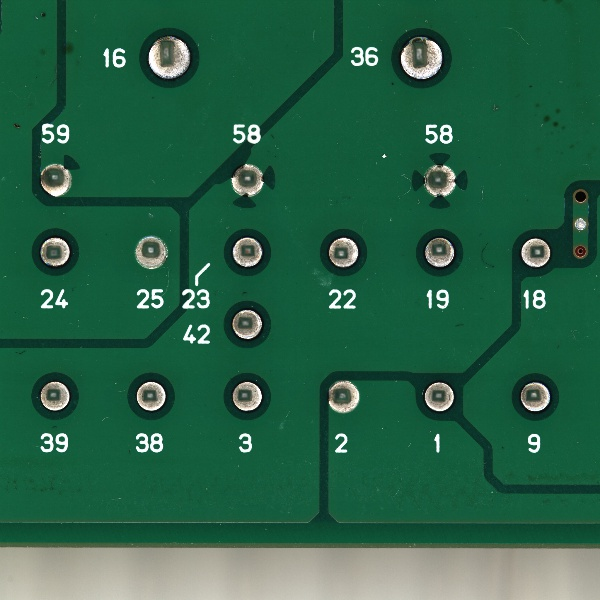Circle: (394, 32, 446, 84), (142, 34, 195, 81), (226, 160, 270, 203), (419, 159, 462, 203), (34, 372, 75, 415), (417, 375, 457, 419), (515, 377, 555, 419), (37, 159, 78, 199), (130, 377, 171, 417), (132, 231, 171, 273), (517, 232, 554, 274), (229, 375, 266, 416), (325, 376, 362, 417), (228, 233, 265, 271), (325, 232, 362, 270), (421, 234, 458, 272), (36, 233, 73, 269), (229, 306, 266, 341)
